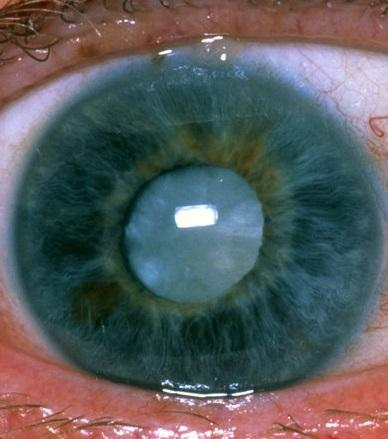eye: (16, 60, 380, 399)
